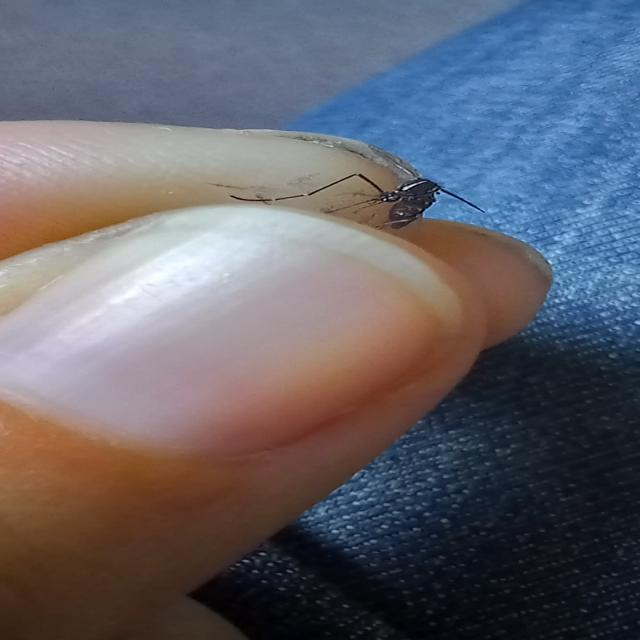albopictus: (218, 158, 498, 238)
